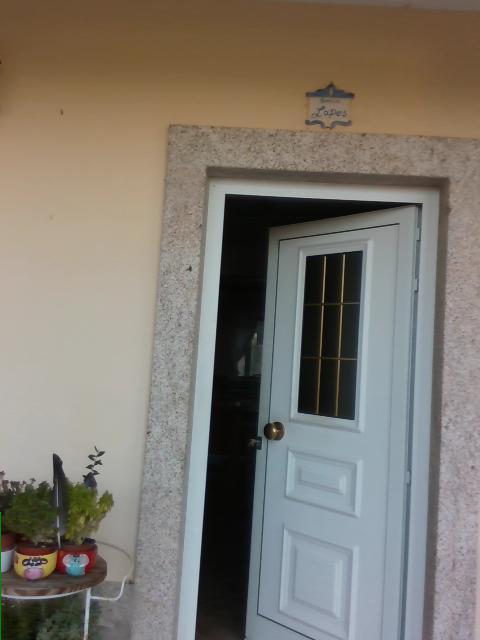semi_door: (173, 163, 452, 639)
